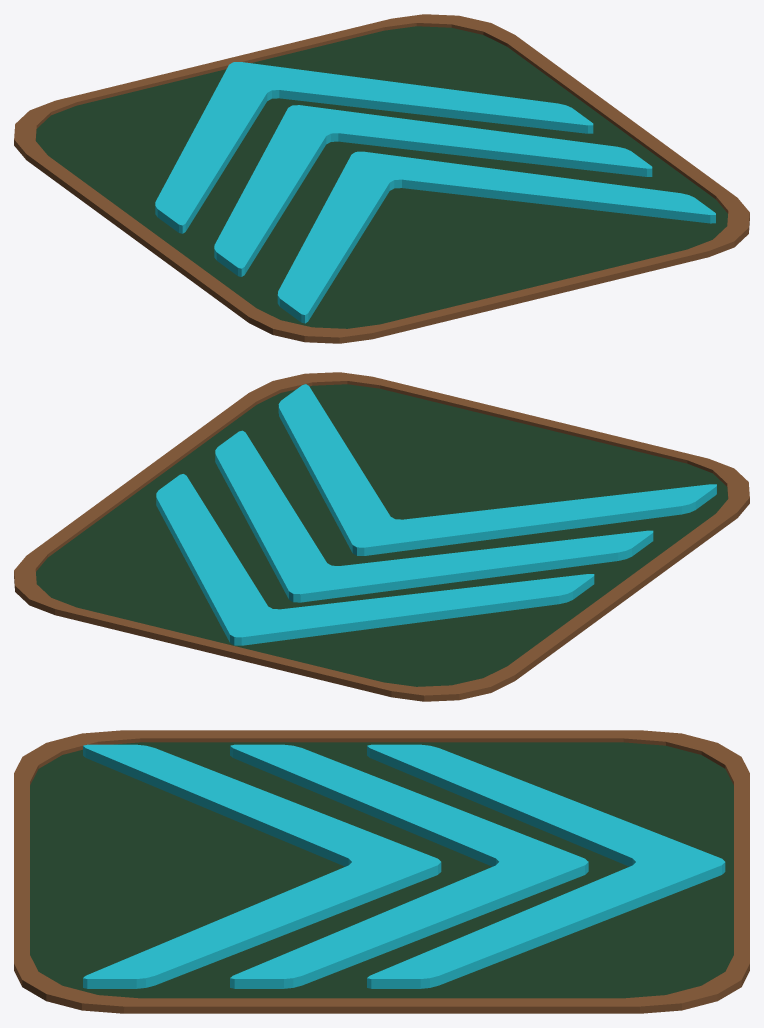
Rendered from boost pad test 1.fbx.
The picture shows the model from 3 angles, top to bottom: view 1: azimuth 30°, elevation 25°; view 2: azimuth 150°, elevation 25°; view 3: azimuth 270°, elevation 25°; orthographic projection. The views are drawn at different scales.
Parts seen in each view (by area): view 1: ground arrow, arrows; view 2: ground arrow, arrows; view 3: ground arrow, arrows.
Boxes of the visible parts, left/top/right/bottom form: ground arrow: left=14, top=14, right=749, bottom=343; arrows: left=155, top=62, right=715, bottom=323; ground arrow: left=14, top=372, right=749, bottom=701; arrows: left=156, top=384, right=716, bottom=645; ground arrow: left=14, top=730, right=749, bottom=1013; arrows: left=83, top=744, right=725, bottom=988.
Size of the model in its own units: 93.88 by 2.12 by 106.
